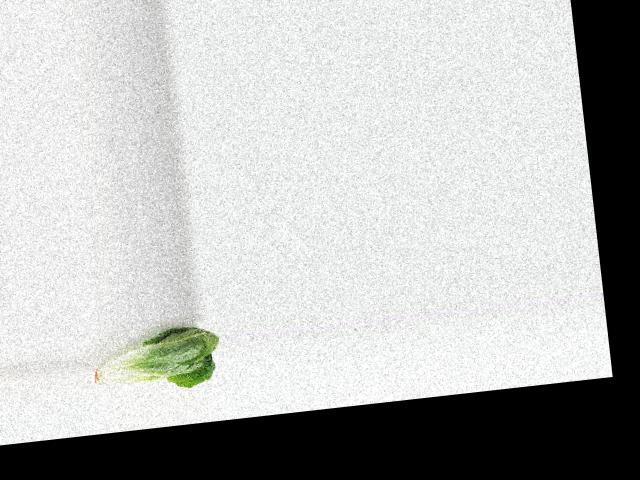lettuce: (83, 320, 224, 400)
